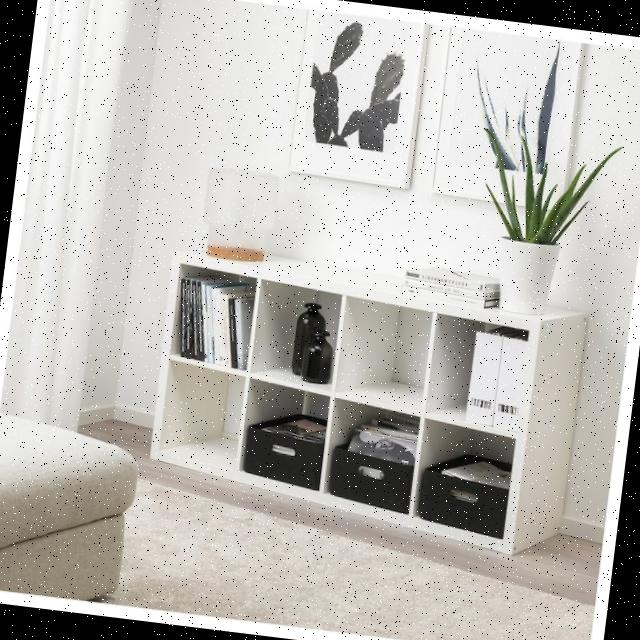Shelf: (142, 230, 604, 568)
